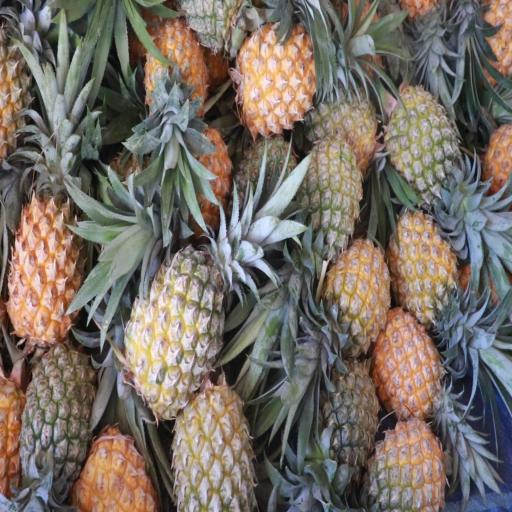------------------------------: (123, 255, 225, 408), (171, 378, 252, 512)
Pineapple - v8 v1: (10, 187, 81, 341), (387, 208, 460, 322), (237, 26, 315, 132), (372, 310, 442, 422), (143, 18, 208, 122), (327, 243, 388, 350), (79, 428, 156, 512), (182, 126, 230, 222)
